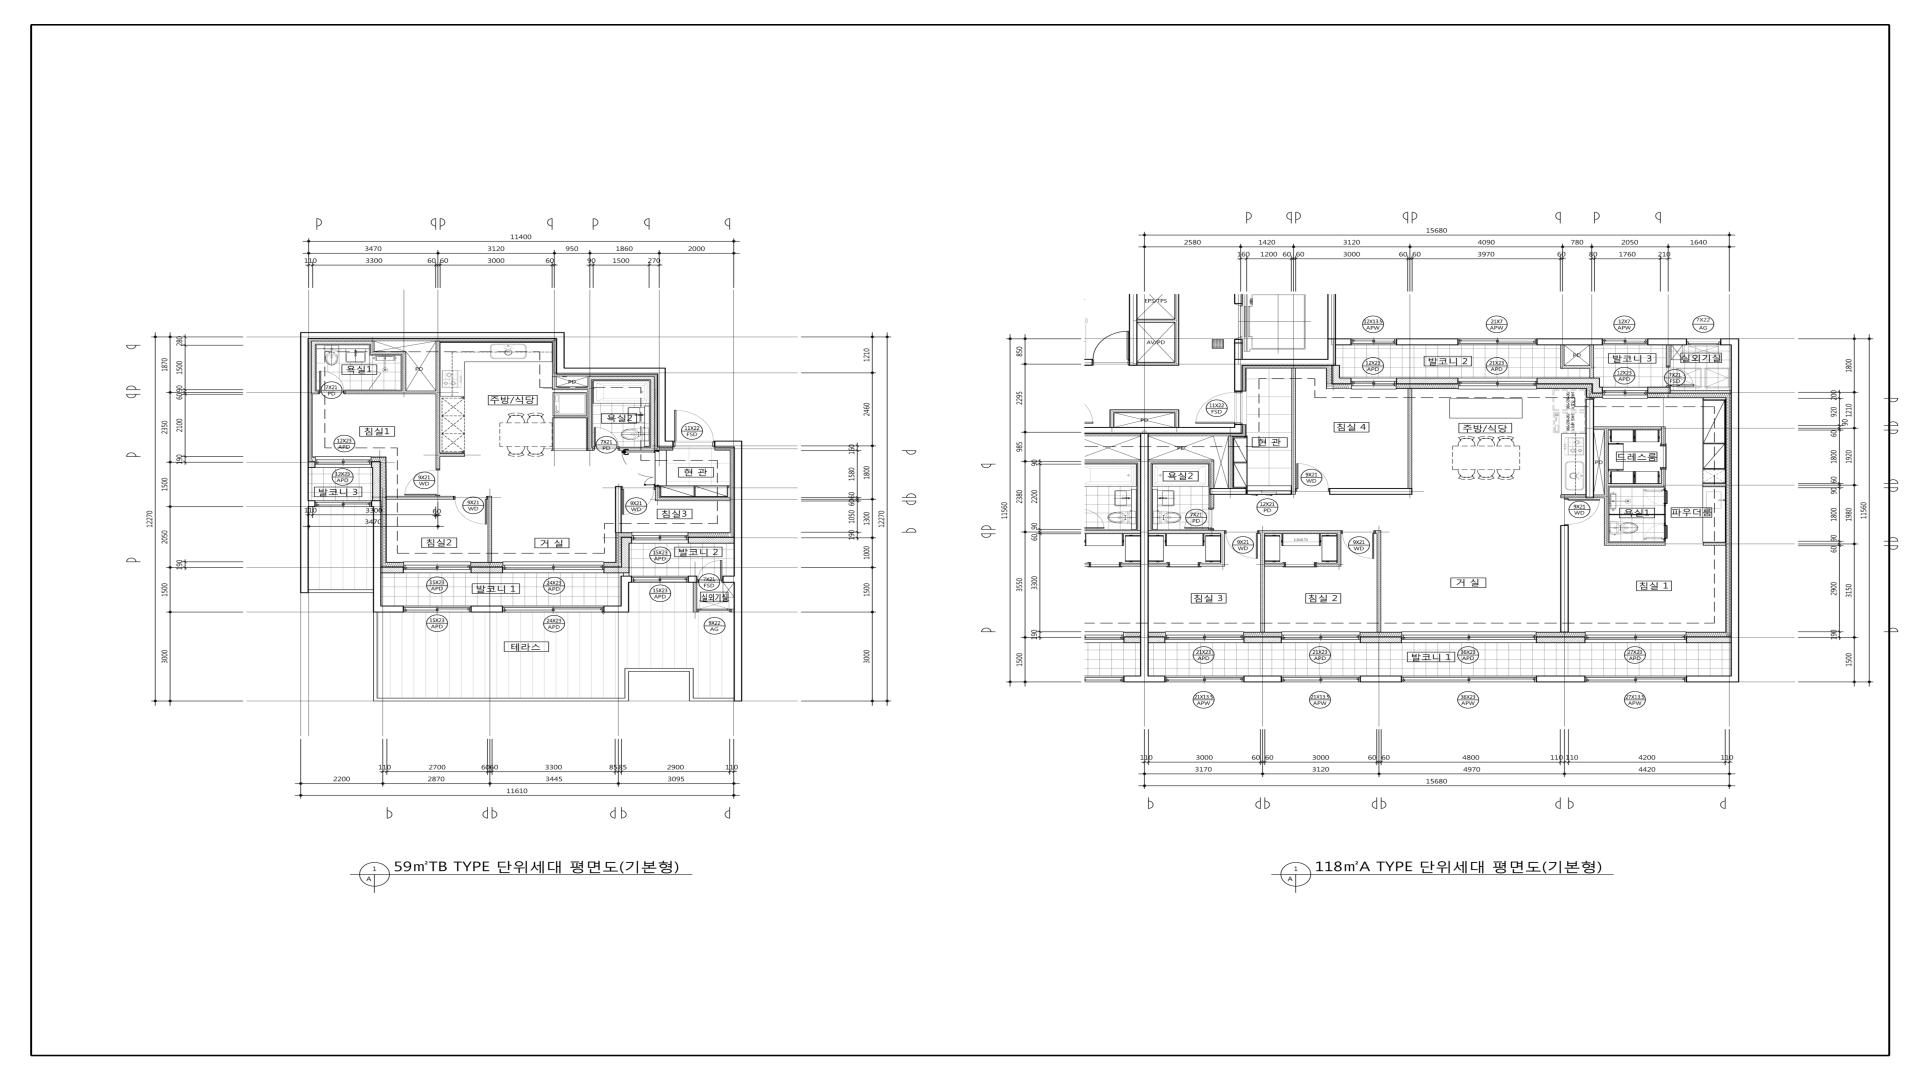door: (674, 410, 715, 447), (621, 451, 659, 485), (1195, 392, 1236, 423), (454, 496, 488, 525), (1296, 463, 1329, 492), (621, 487, 655, 514), (405, 469, 440, 496), (1225, 531, 1258, 559), (1564, 500, 1600, 525), (1342, 531, 1374, 559), (318, 371, 345, 394), (593, 427, 620, 451), (698, 560, 723, 583), (1668, 367, 1695, 386), (1184, 509, 1211, 529), (1643, 524, 1668, 539), (1643, 491, 1668, 505), (369, 371, 381, 390), (1247, 491, 1291, 495), (1284, 562, 1316, 567), (1168, 562, 1200, 567), (1660, 444, 1667, 469)
wall: (1687, 339, 1739, 682), (1139, 434, 1166, 683), (1234, 339, 1336, 392), (309, 332, 564, 339), (1084, 423, 1242, 434), (733, 440, 742, 612), (301, 332, 309, 500), (372, 500, 381, 612), (1560, 525, 1569, 632), (1536, 378, 1604, 393), (1585, 398, 1594, 498), (435, 340, 440, 469), (1374, 530, 1381, 632), (657, 375, 666, 447), (564, 368, 666, 375), (1291, 368, 1296, 495), (1129, 294, 1138, 365), (1604, 430, 1609, 546), (1329, 488, 1412, 495), (1407, 389, 1412, 488), (1536, 339, 1604, 345), (1327, 294, 1336, 339), (1396, 339, 1458, 345), (588, 376, 593, 451), (621, 537, 632, 574), (1261, 534, 1265, 632), (1332, 365, 1352, 384), (345, 390, 435, 394), (372, 462, 381, 500), (1258, 530, 1341, 534), (1396, 378, 1458, 384), (1536, 675, 1585, 682), (1536, 637, 1585, 644), (1685, 637, 1731, 644), (1149, 530, 1225, 534), (655, 497, 731, 501), (688, 537, 733, 543), (650, 380, 654, 451), (556, 339, 564, 375), (1228, 435, 1233, 488), (1360, 637, 1402, 644), (385, 496, 454, 500), (1594, 426, 1662, 430), (1175, 294, 1179, 361), (1647, 339, 1687, 345), (488, 496, 492, 562), (1114, 409, 1179, 413), (1244, 675, 1282, 682), (1209, 488, 1247, 495), (471, 605, 502, 613), (592, 376, 654, 380), (616, 487, 621, 533), (621, 583, 629, 613), (1609, 483, 1665, 487), (1609, 542, 1665, 546), (1360, 676, 1402, 682), (471, 567, 502, 574), (1244, 637, 1282, 642), (311, 342, 315, 390), (1149, 463, 1151, 530), (1149, 460, 1215, 463), (1589, 345, 1594, 378), (1336, 534, 1341, 567), (1138, 361, 1179, 365), (1671, 390, 1731, 393), (1647, 386, 1671, 393), (315, 342, 375, 344), (1234, 339, 1242, 359), (692, 583, 698, 612), (1220, 534, 1225, 563), (381, 605, 404, 612), (381, 567, 404, 574), (1138, 319, 1175, 323), (402, 355, 406, 390), (604, 605, 621, 613), (1209, 463, 1215, 488), (299, 500, 315, 508), (556, 386, 588, 390), (375, 351, 406, 355), (715, 440, 733, 447), (620, 447, 650, 451), (1149, 637, 1166, 644), (604, 567, 621, 574), (1665, 345, 1671, 367), (1336, 339, 1352, 345), (1560, 495, 1585, 498), (1564, 365, 1589, 369), (1200, 563, 1225, 567), (1109, 409, 1114, 427), (1702, 542, 1726, 546), (1702, 483, 1726, 487), (1560, 345, 1564, 369), (440, 452, 464, 456), (1316, 563, 1337, 567), (1234, 294, 1242, 305), (1149, 563, 1168, 567), (1265, 563, 1284, 567), (1209, 495, 1215, 509), (1174, 413, 1179, 427), (1609, 514, 1664, 516), (1662, 426, 1665, 444), (621, 576, 632, 583), (723, 576, 733, 583), (1084, 359, 1093, 365), (688, 576, 698, 583), (553, 376, 556, 390), (1662, 469, 1665, 483), (666, 440, 674, 447), (655, 485, 659, 497), (309, 462, 315, 468), (371, 344, 375, 355), (1594, 495, 1604, 498), (311, 390, 318, 394), (1664, 505, 1665, 524), (622, 574, 629, 576), (369, 356, 369, 371)
window: (1402, 632, 1536, 644), (1585, 632, 1687, 644), (502, 562, 604, 574), (1282, 632, 1360, 644), (1166, 632, 1244, 642), (1458, 378, 1536, 389), (404, 562, 471, 574), (1402, 676, 1536, 682), (632, 531, 688, 543), (315, 456, 372, 468), (1585, 675, 1687, 682), (502, 605, 604, 612), (1602, 386, 1648, 398), (1166, 675, 1244, 682), (1282, 675, 1360, 682), (1458, 339, 1536, 345), (1352, 378, 1396, 389), (404, 605, 471, 612), (632, 576, 688, 583), (1602, 339, 1647, 345), (1352, 339, 1396, 345), (315, 501, 371, 506), (1687, 339, 1721, 345), (698, 609, 733, 612)
